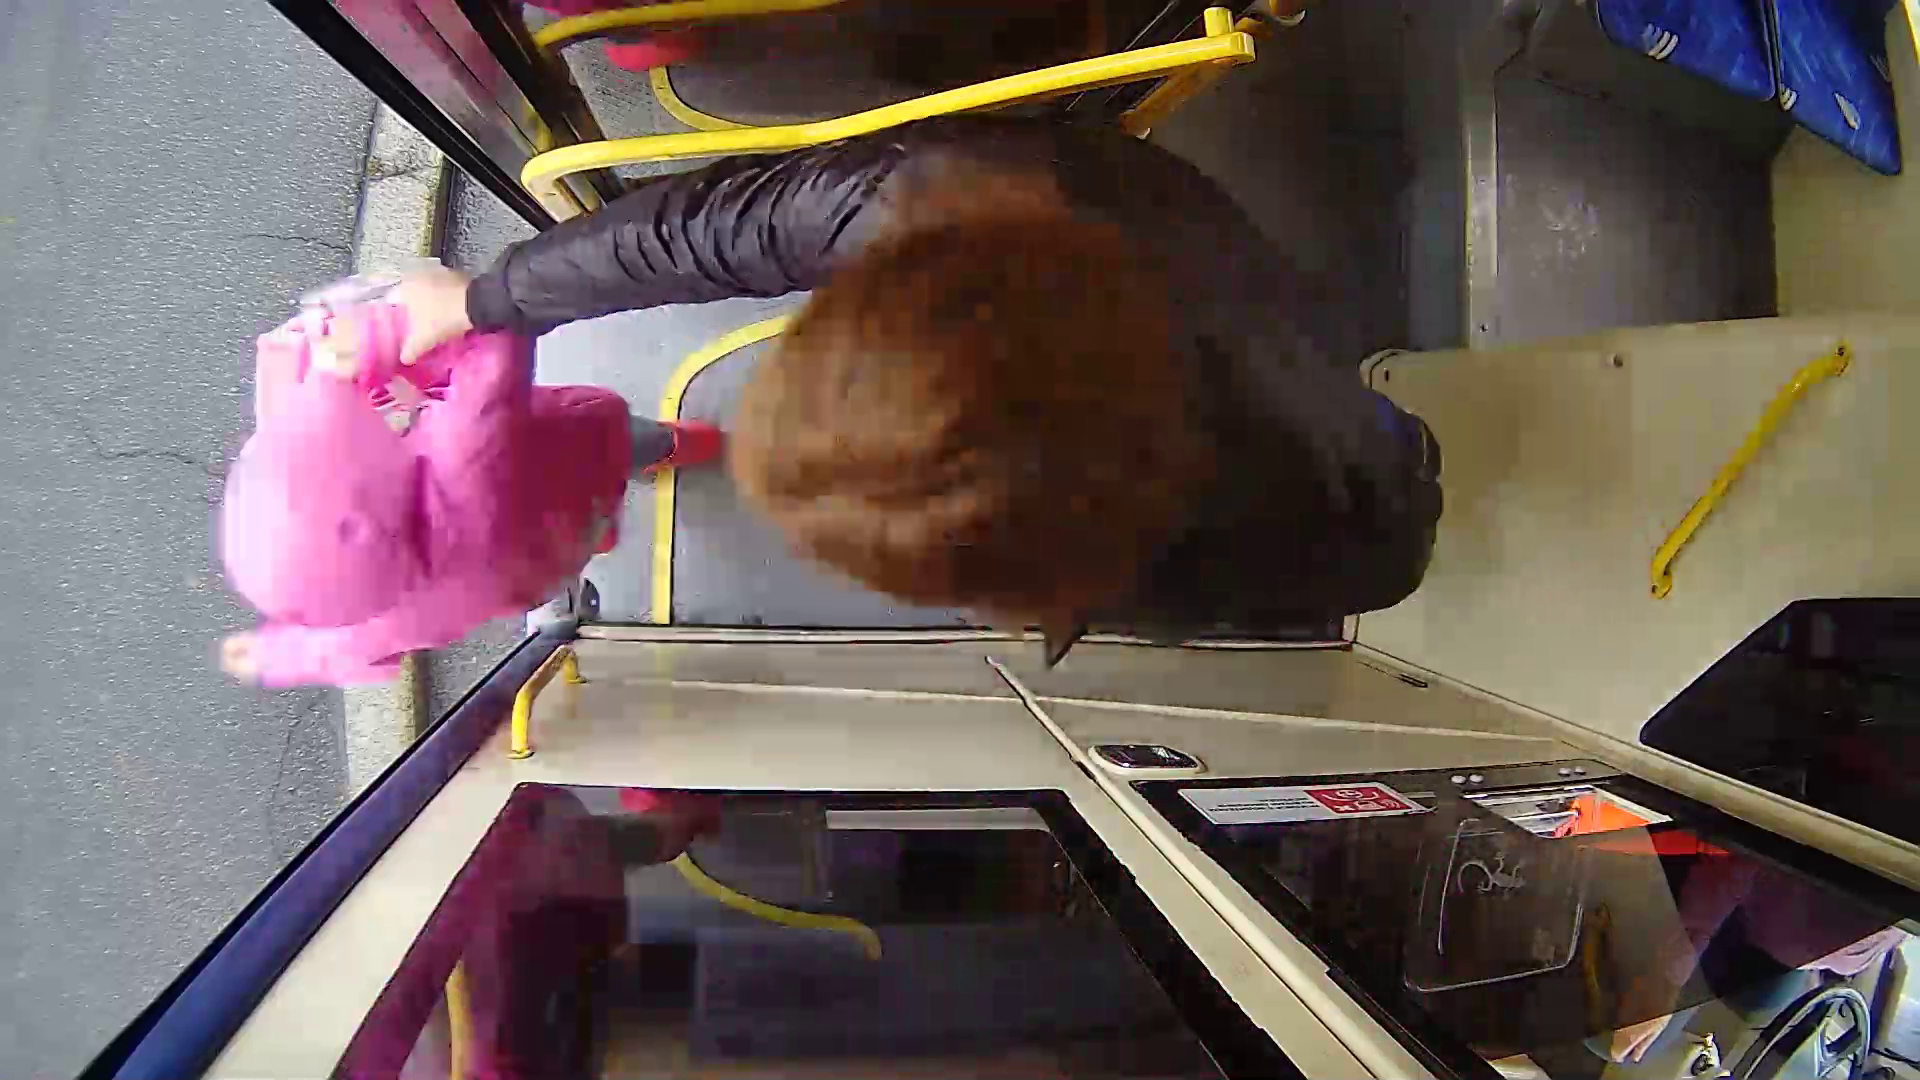person: (245, 132, 1514, 733)
